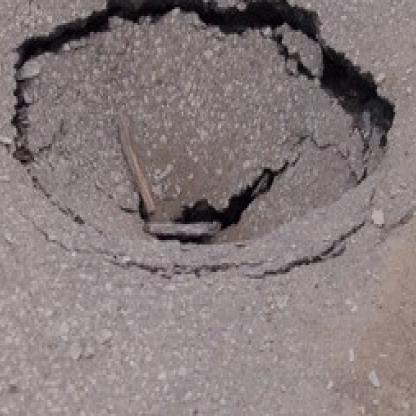pothole: (0, 0, 404, 258)
